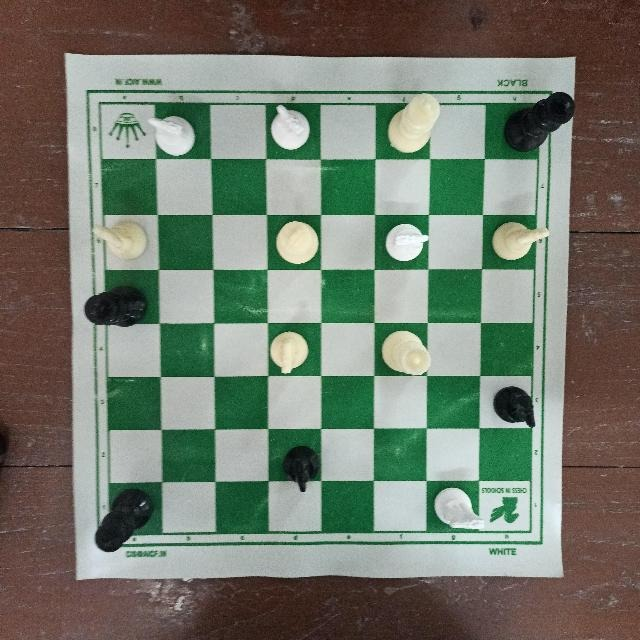black-king: (498, 87, 575, 149), (88, 486, 151, 561), (83, 284, 150, 334)
black-knight: (488, 384, 544, 432), (280, 444, 326, 492)
white-king: (384, 85, 446, 153), (269, 215, 324, 266)
white-knight: (146, 106, 206, 162), (429, 490, 495, 537), (266, 93, 317, 153), (375, 220, 434, 270), (93, 215, 151, 263), (265, 324, 316, 378), (492, 218, 550, 259)
white-queen: (381, 332, 435, 380)
